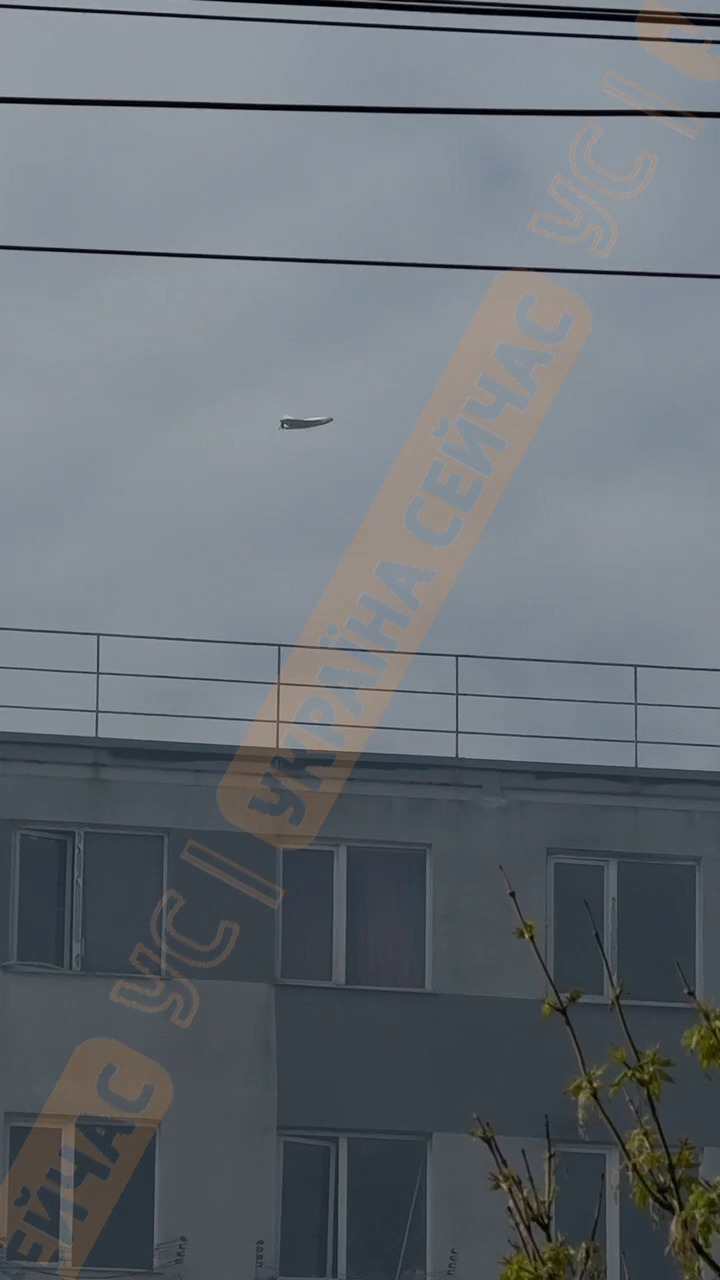shahed: (274, 405, 344, 436)
